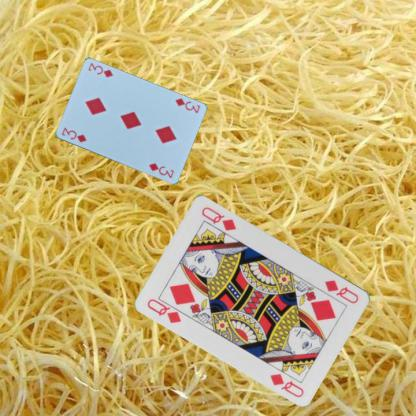3d: (59, 125, 88, 144), (172, 96, 201, 114)
Qd: (145, 294, 189, 324), (323, 277, 360, 305)
